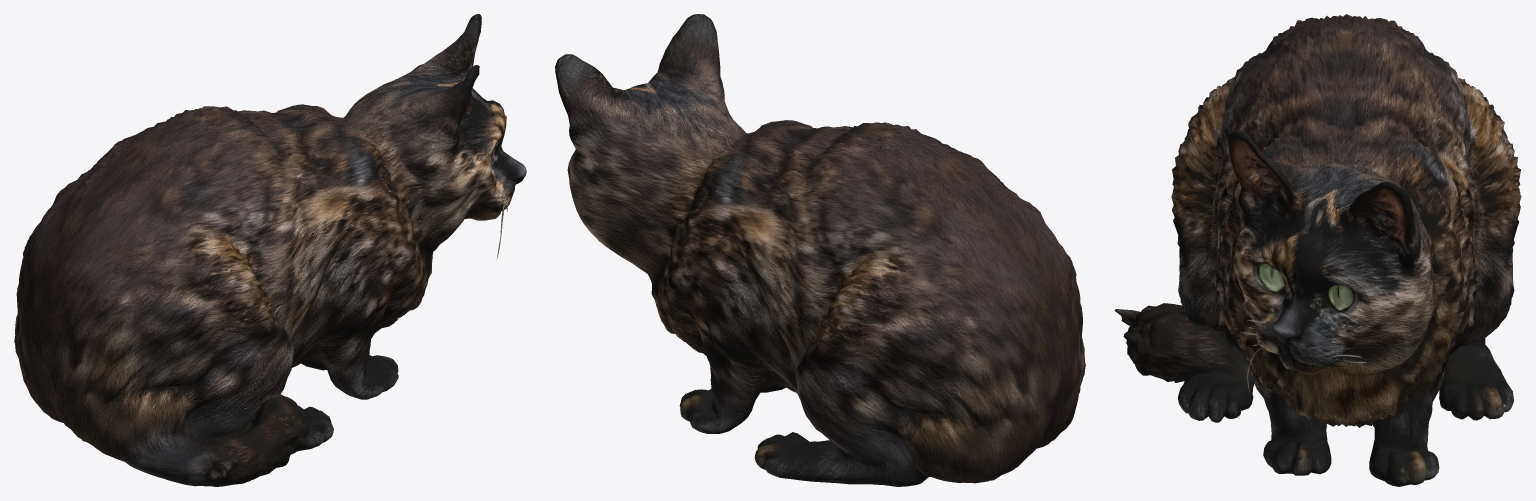
File: cat-crouching-alert.glb
3 views of the same model, side by side, from view 1: azimuth 30°, elevation 25°; view 2: azimuth 150°, elevation 25°; view 3: azimuth 270°, elevation 25° (orthographic). The views are drawn at different scales.
Parts seen in each view (by area): view 1: tripo_node_6139a631-8695-498a-9fbb-c779defbc41c; view 2: tripo_node_6139a631-8695-498a-9fbb-c779defbc41c; view 3: tripo_node_6139a631-8695-498a-9fbb-c779defbc41c.
Boxes of the visible parts, box(x1,y1,x2,y2) form: tripo_node_6139a631-8695-498a-9fbb-c779defbc41c: box(14, 14, 526, 486); tripo_node_6139a631-8695-498a-9fbb-c779defbc41c: box(555, 14, 1085, 486); tripo_node_6139a631-8695-498a-9fbb-c779defbc41c: box(1114, 14, 1521, 486).
Size of the model in its own units: 0.4524 by 0.3 by 0.2799.
Materials: 1 (1 with a texture image).
